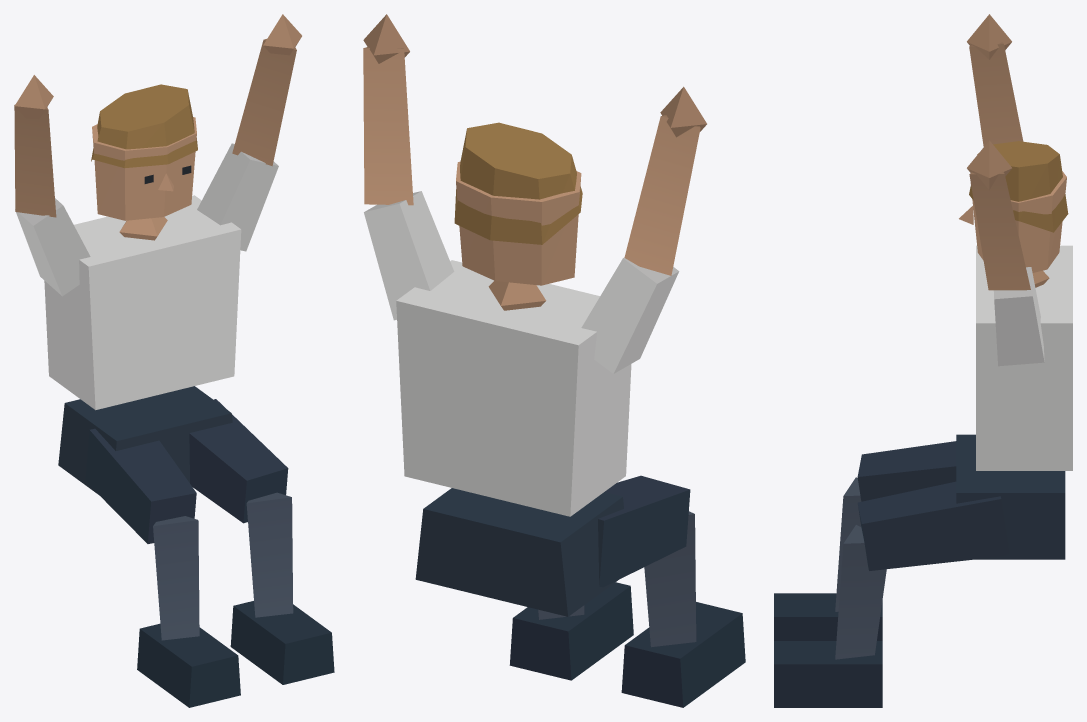
File: fan-05.glb
The picture shows the model from 3 angles, left to right: view 1: azimuth 30°, elevation 25°; view 2: azimuth 150°, elevation 25°; view 3: azimuth 270°, elevation 25°; orthographic projection. The views are drawn at different scales.
Parts seen in each view (by area): view 1: fan-05; view 2: fan-05; view 3: fan-05.
Part boxes in pixels (left/top/right/bottom): fan-05: left=14, top=14, right=334, bottom=707; fan-05: left=363, top=14, right=745, bottom=707; fan-05: left=774, top=14, right=1072, bottom=707.
Bounding box in the file's own units: 0.892 × 1.69 × 0.77.
